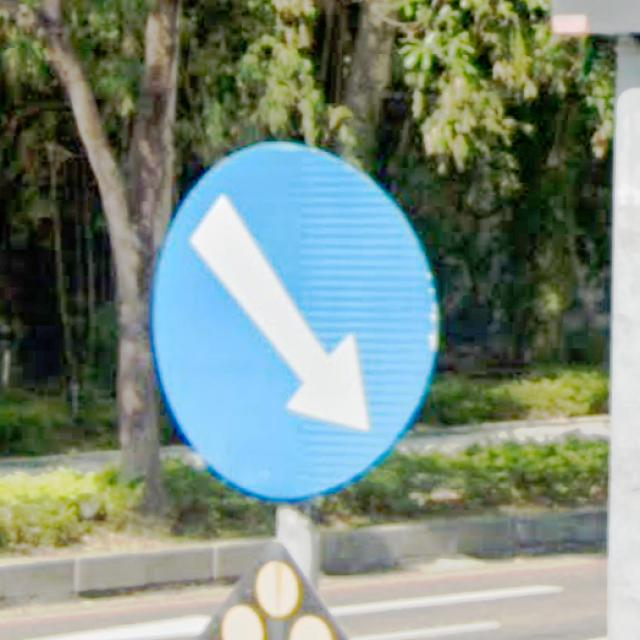thisway: (147, 136, 442, 504)
